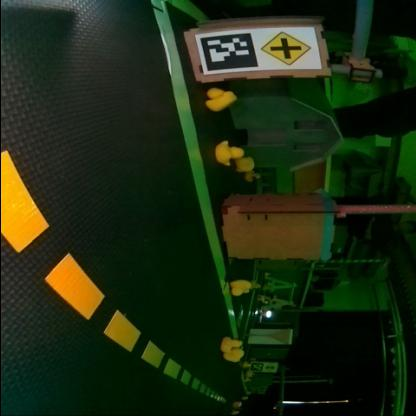Duckie: (206, 88, 236, 112), (216, 140, 242, 166), (230, 280, 252, 296), (221, 336, 242, 350), (235, 156, 253, 171), (224, 349, 245, 361), (245, 170, 260, 180), (234, 401, 241, 406)
Intersection sign: (261, 30, 312, 66)
QR code: (200, 31, 258, 71)
